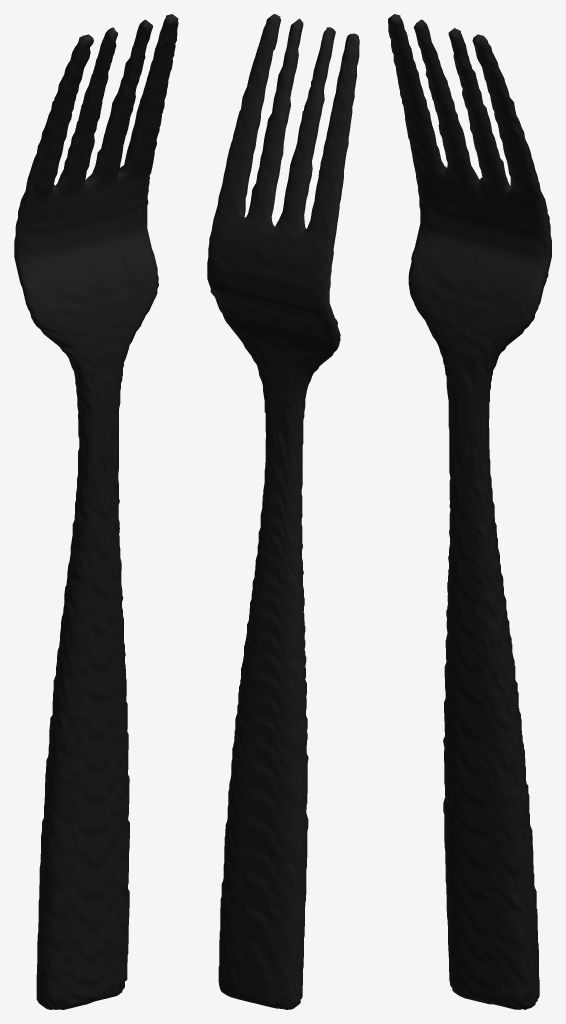
File: black_salad_fork_0308230333_texture.glb
The picture shows the model from 3 angles, left to right: view 1: azimuth 30°, elevation 25°; view 2: azimuth 150°, elevation 25°; view 3: azimuth 330°, elevation 25°; orthographic projection. The views are drawn at different scales.
Visible parts, largest first — view 1: Mesh_0.004; view 2: Mesh_0.004; view 3: Mesh_0.004.
Boxes of the visible parts, x1,y1,x2,y2 form: Mesh_0.004: [14, 14, 178, 1009]; Mesh_0.004: [207, 14, 359, 1009]; Mesh_0.004: [388, 14, 551, 1009].
Size of the model in its own units: 0.0271 by 0.2032 by 0.0238.
1 material, 1 textured.
